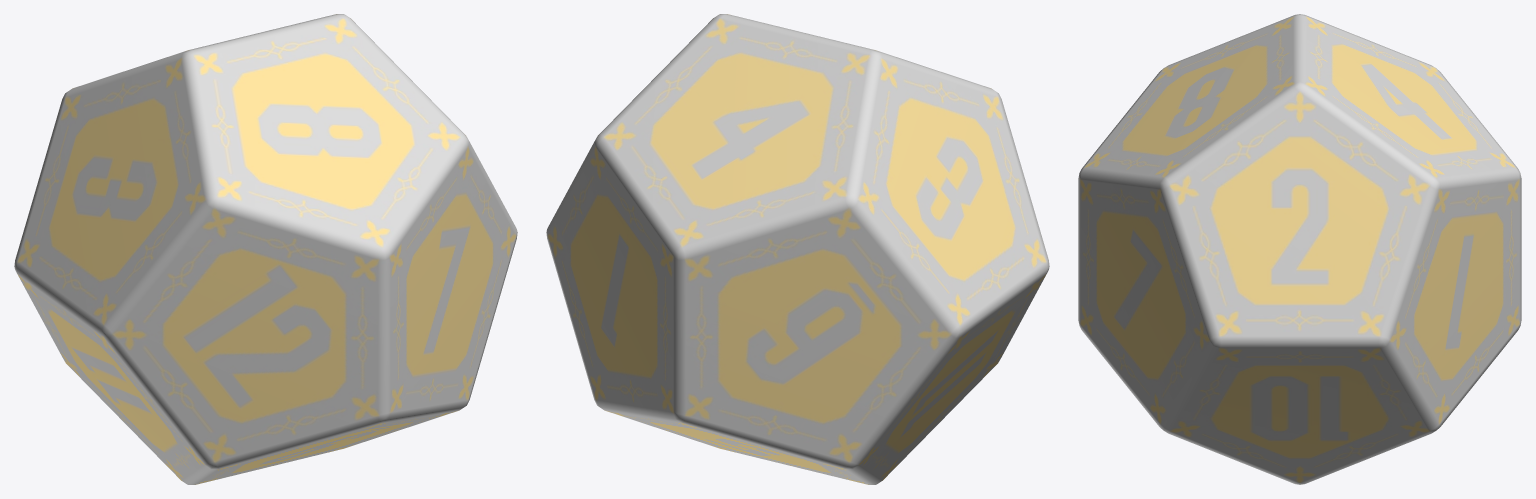
Rendered from dicemodel_d12.gltf.
3 views of the same model, side by side, from view 1: azimuth 30°, elevation 25°; view 2: azimuth 150°, elevation 25°; view 3: azimuth 270°, elevation 25° (orthographic). The views are drawn at different scales.
Visible parts, largest first — view 1: dicemodel_d12; view 2: dicemodel_d12; view 3: dicemodel_d12.
Boxes of the visible parts, bbox=[...] form: dicemodel_d12: bbox=[14, 14, 517, 484]; dicemodel_d12: bbox=[546, 14, 1049, 484]; dicemodel_d12: bbox=[1078, 14, 1521, 484].
Size of the model in its own units: 165 by 165 by 165.
Materials: 1 (1 with a texture image).
